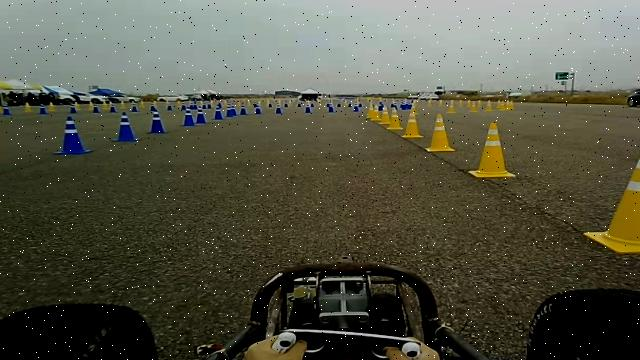blue cone: (53, 115, 92, 154), (110, 111, 140, 141), (146, 112, 167, 134), (181, 105, 193, 126), (195, 103, 207, 124), (213, 103, 222, 120), (2, 100, 12, 115), (240, 100, 248, 115), (109, 100, 119, 112), (149, 99, 158, 112), (39, 100, 47, 114), (69, 99, 77, 113), (254, 102, 262, 114), (231, 101, 237, 117), (226, 101, 232, 117), (274, 102, 282, 113), (92, 102, 100, 113), (131, 100, 138, 112), (166, 100, 173, 111)
yellow cone: (582, 145, 640, 254), (467, 122, 515, 178), (424, 114, 456, 152), (401, 112, 424, 138), (386, 105, 403, 134), (378, 104, 391, 125), (365, 102, 380, 119), (370, 101, 382, 121), (446, 99, 456, 114), (483, 100, 493, 112), (409, 101, 418, 114), (504, 100, 514, 110), (469, 102, 478, 112), (496, 100, 505, 110), (47, 101, 56, 111), (24, 101, 32, 112), (101, 101, 110, 110), (86, 100, 94, 110), (138, 100, 145, 109), (0, 102, 2, 113)
